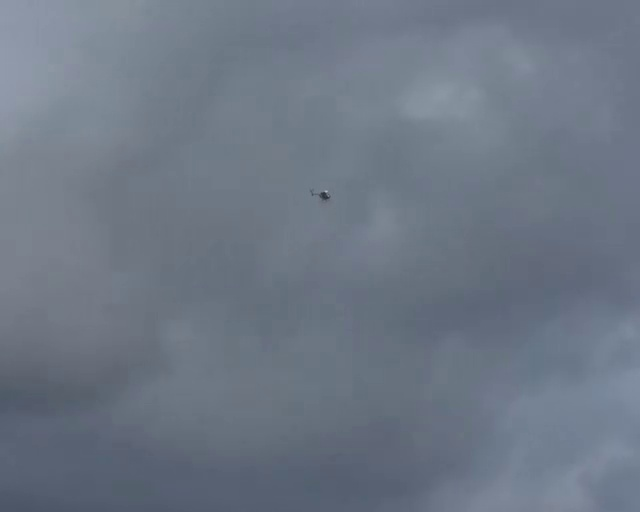HELICOPTER: (309, 188, 331, 201)
